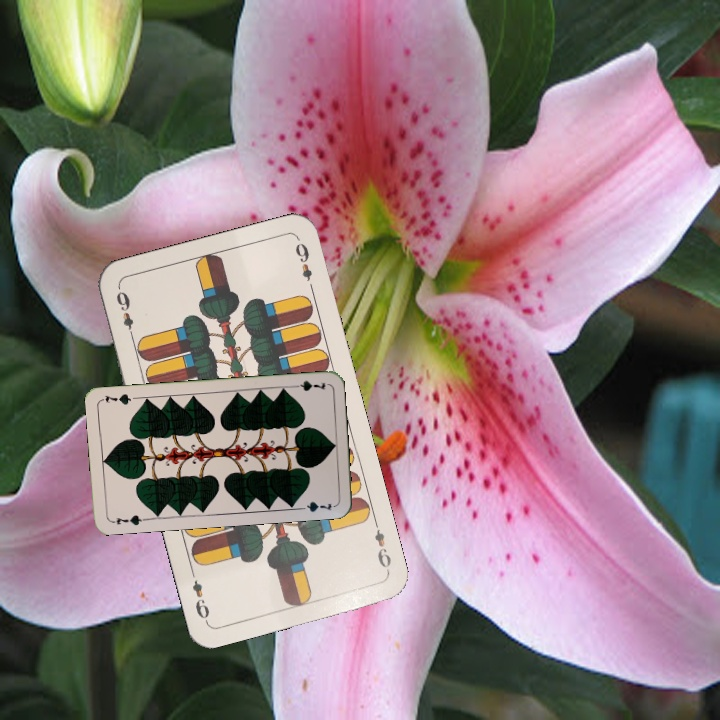E9: (112, 284, 137, 343), (370, 517, 394, 575)
G7: (287, 377, 328, 394), (108, 511, 149, 528)
